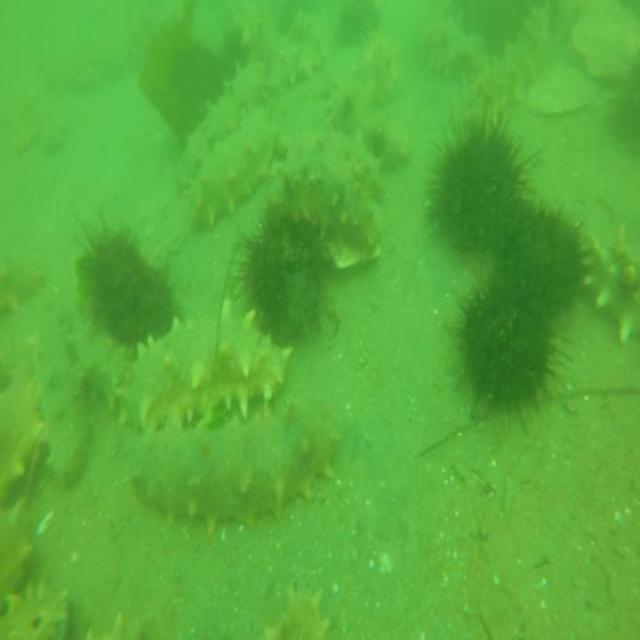echinus: (451, 248, 569, 433), (421, 101, 539, 266), (68, 205, 177, 354), (228, 208, 335, 350), (498, 186, 586, 322), (605, 46, 640, 167), (335, 0, 380, 55)
holothurian: (126, 392, 340, 534), (119, 298, 292, 429), (172, 52, 266, 196), (185, 101, 277, 236), (275, 141, 382, 256), (465, 0, 555, 125), (27, 310, 90, 483), (323, 66, 408, 176), (60, 294, 134, 417), (582, 217, 640, 356), (283, 128, 381, 188), (0, 360, 41, 502), (412, 14, 486, 92), (254, 575, 332, 640), (0, 578, 78, 640), (0, 490, 40, 607), (257, 29, 327, 90), (356, 27, 398, 106)
scallop: (570, 0, 640, 82), (521, 52, 594, 119)
